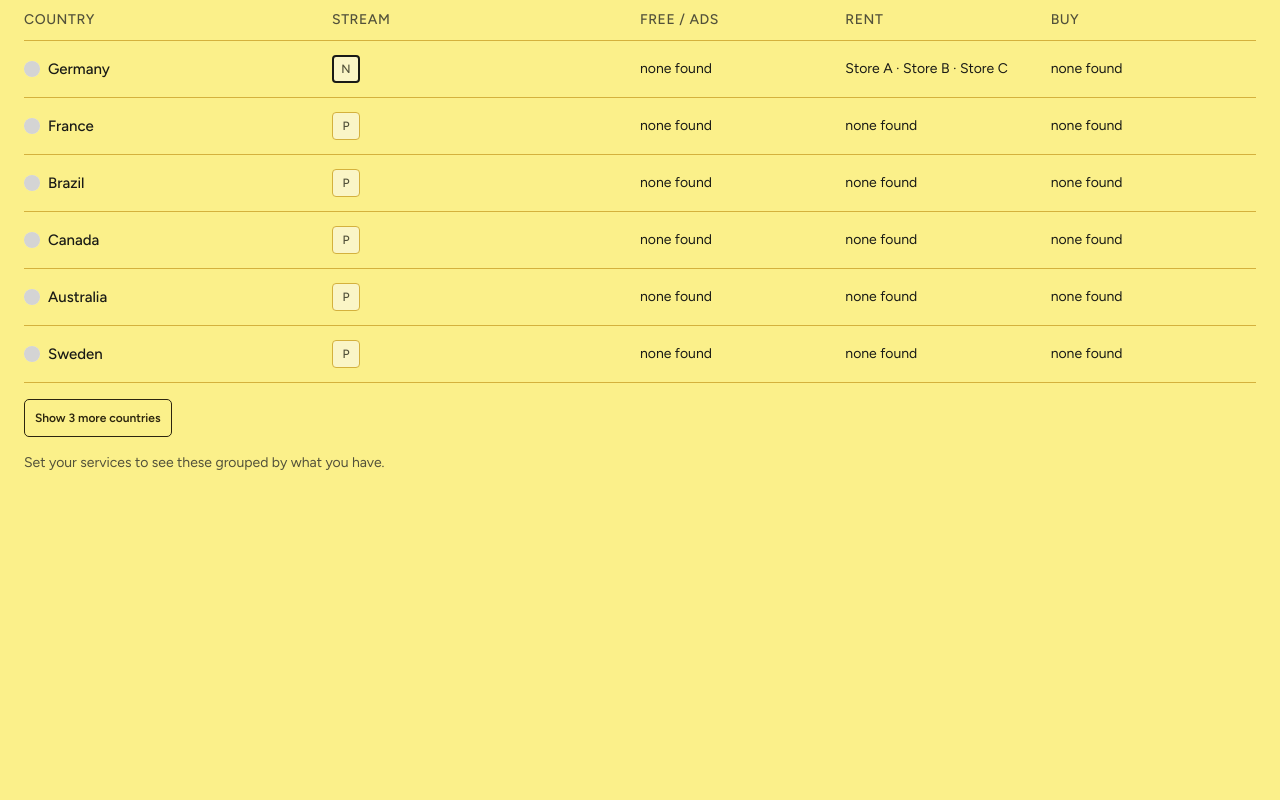
CountryTable › lists every country without chips when settings are missing
The image size is (1280, 800).
Expected: the text "Japan" is not shown
Click the button "Show 3 more countries" at (98, 418), box [24, 399, 172, 437]
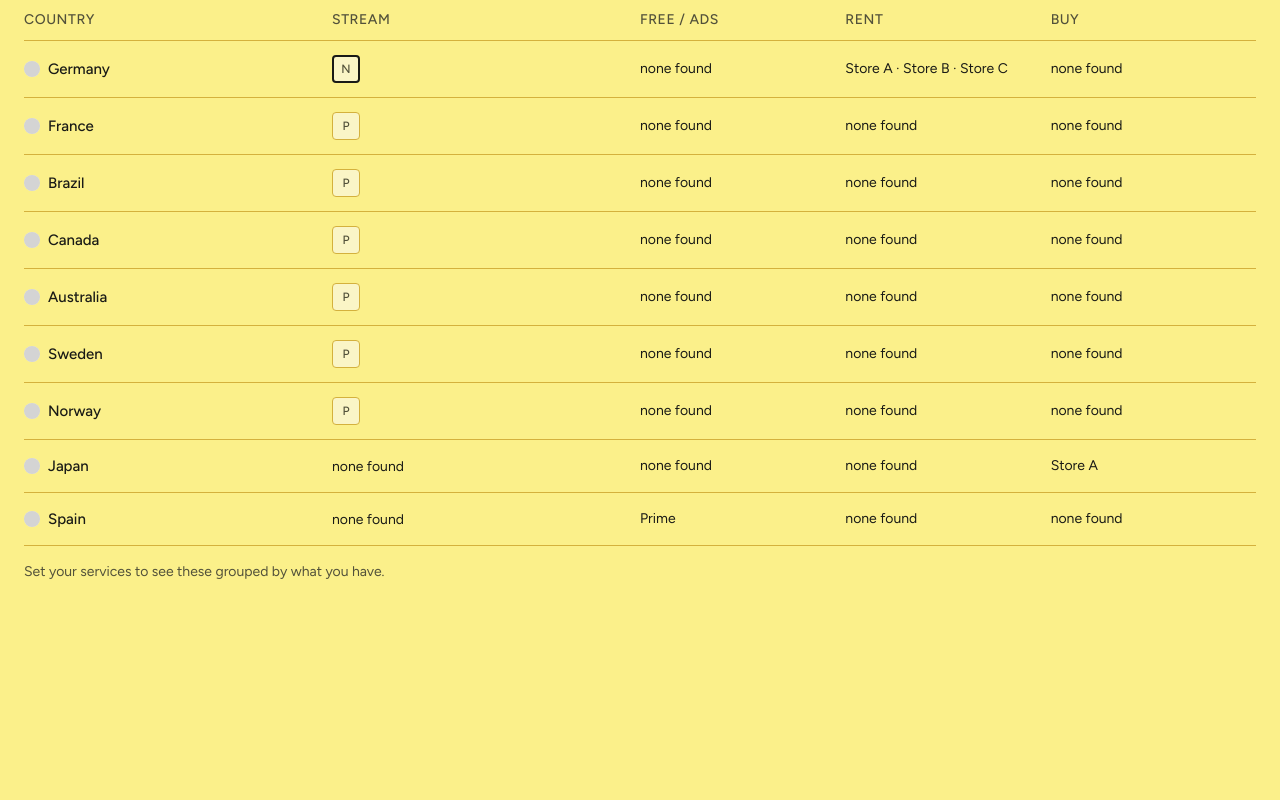
Expected: the text "Set your services to see these grouped by what you have." is shown, [24, 563, 384, 580]
Expected: the text "Japan" is shown, [48, 456, 89, 476]
Expected: the text "Spain" is shown, [48, 509, 86, 529]
